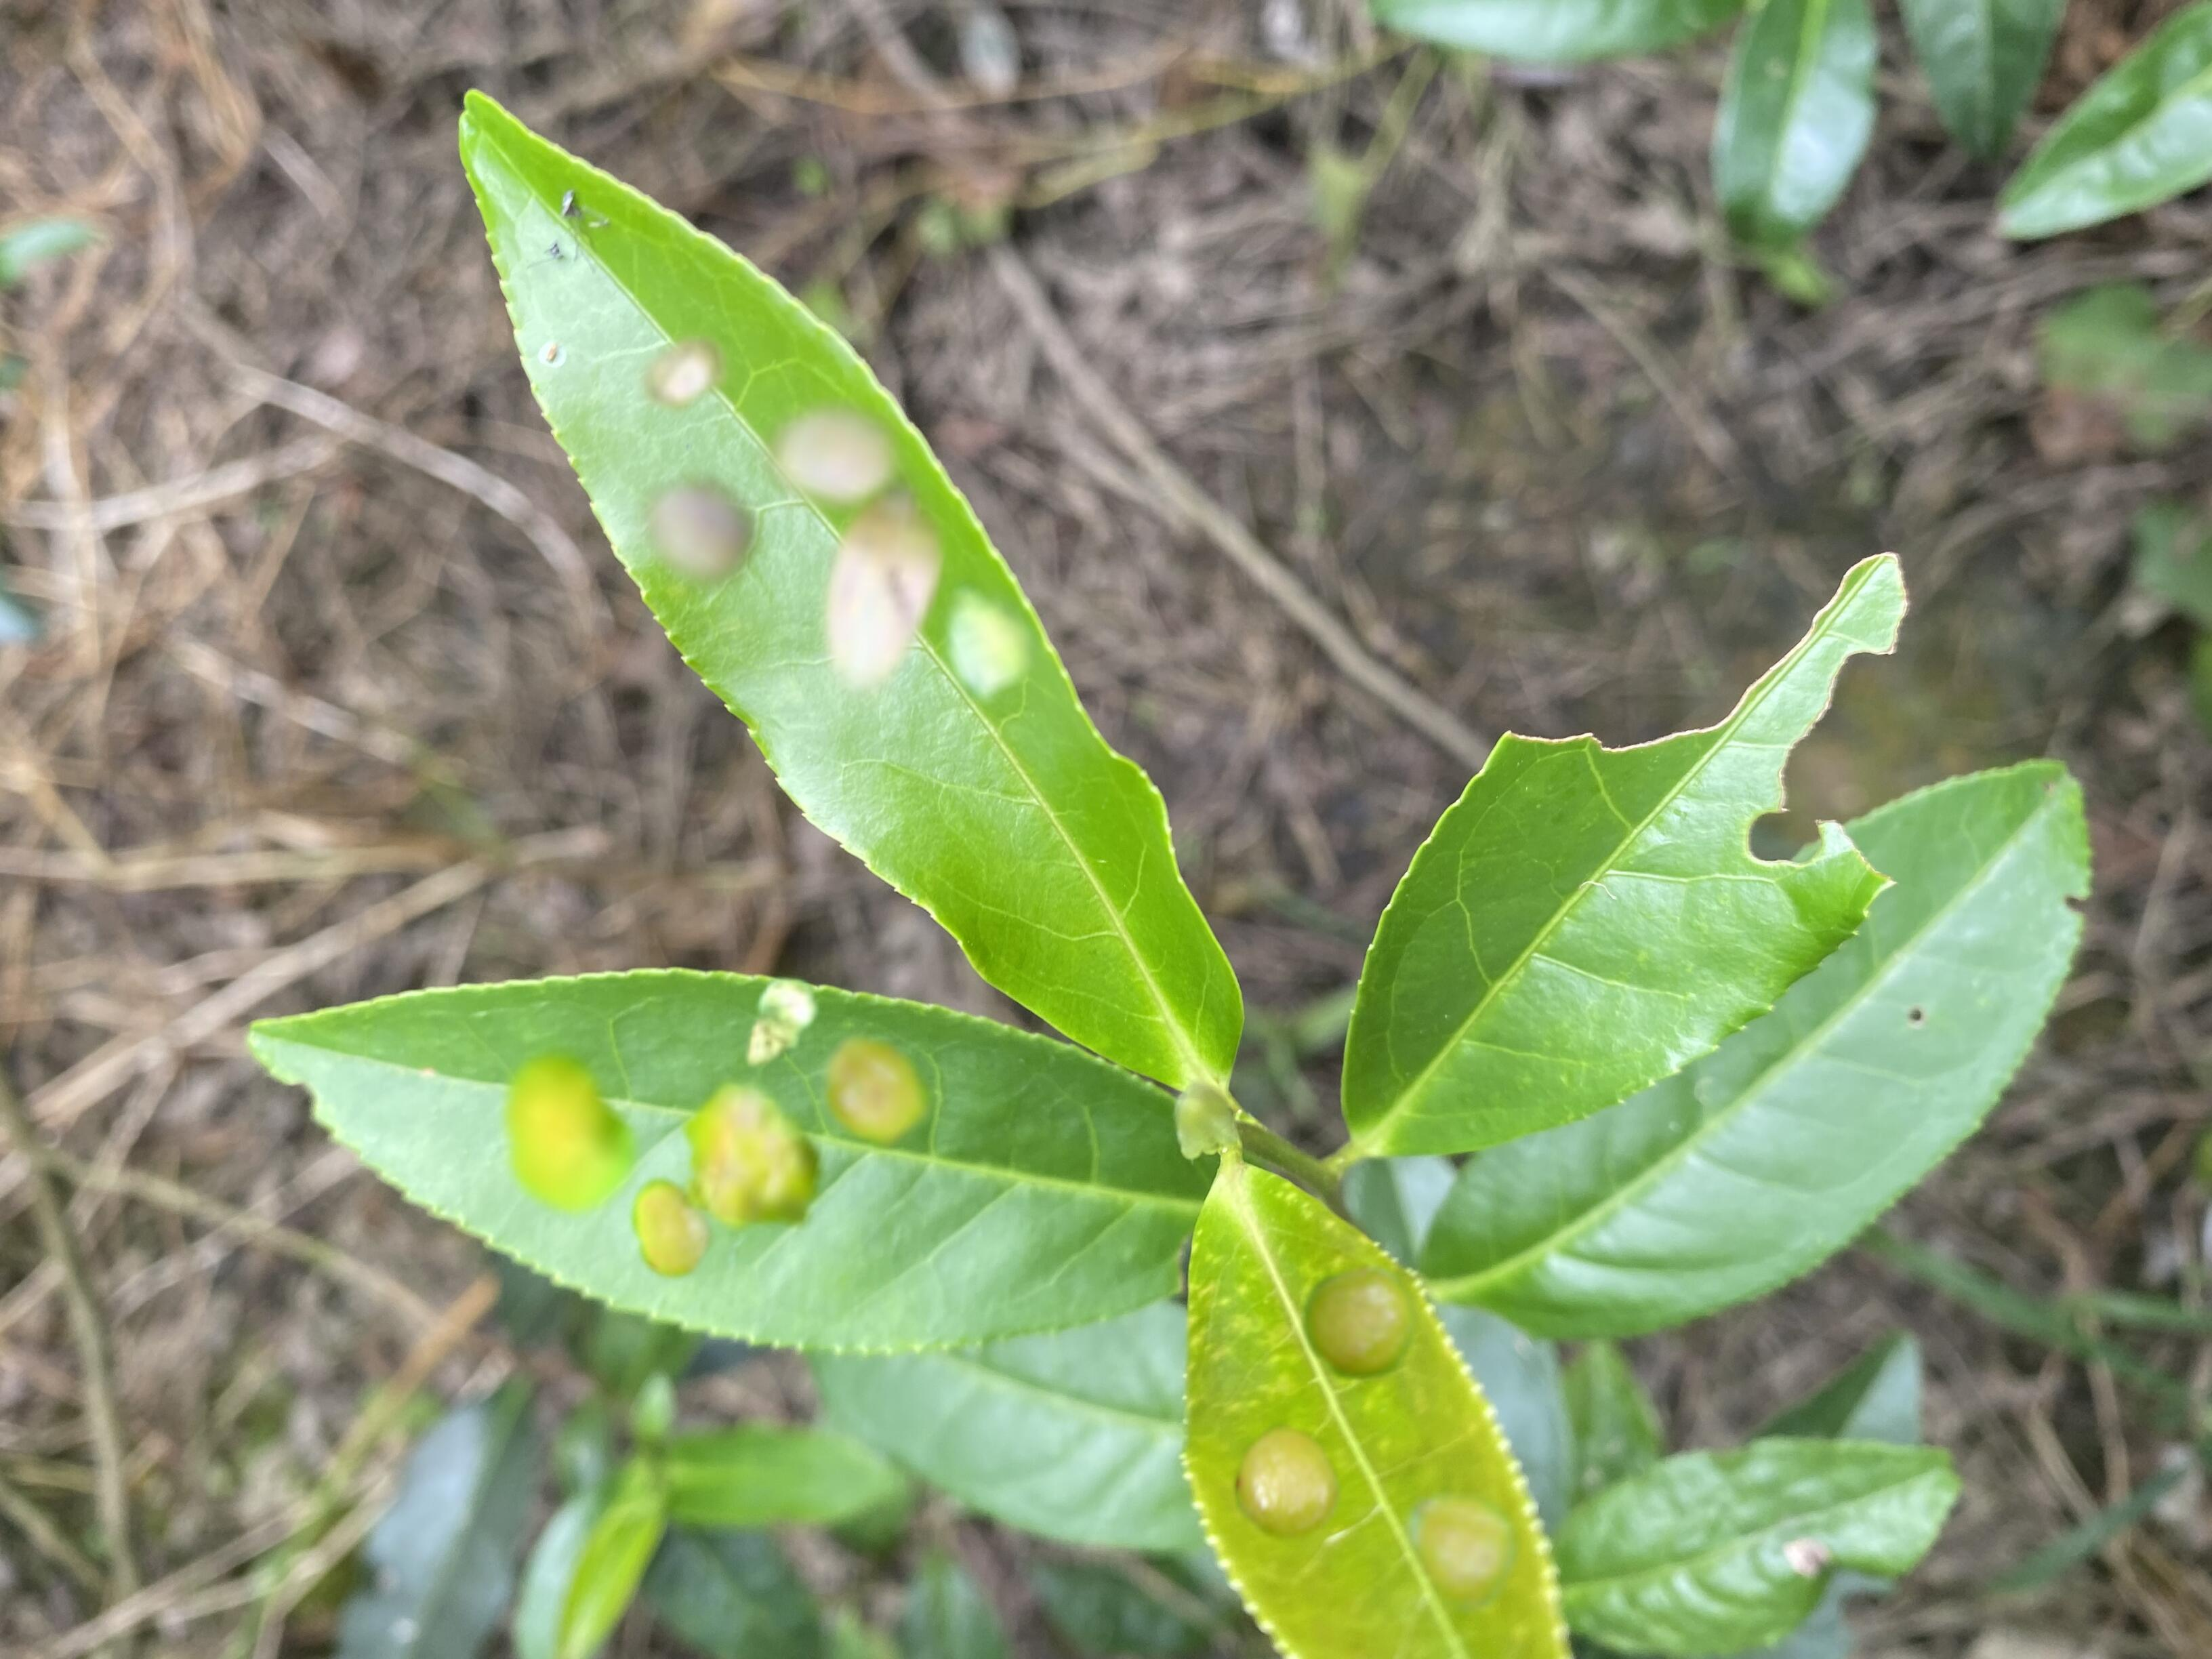chabing_high: (458, 87, 1247, 1093), (242, 964, 1197, 1352), (1181, 1162, 1569, 1656)
chihuo_high: (1332, 551, 1914, 1154)
